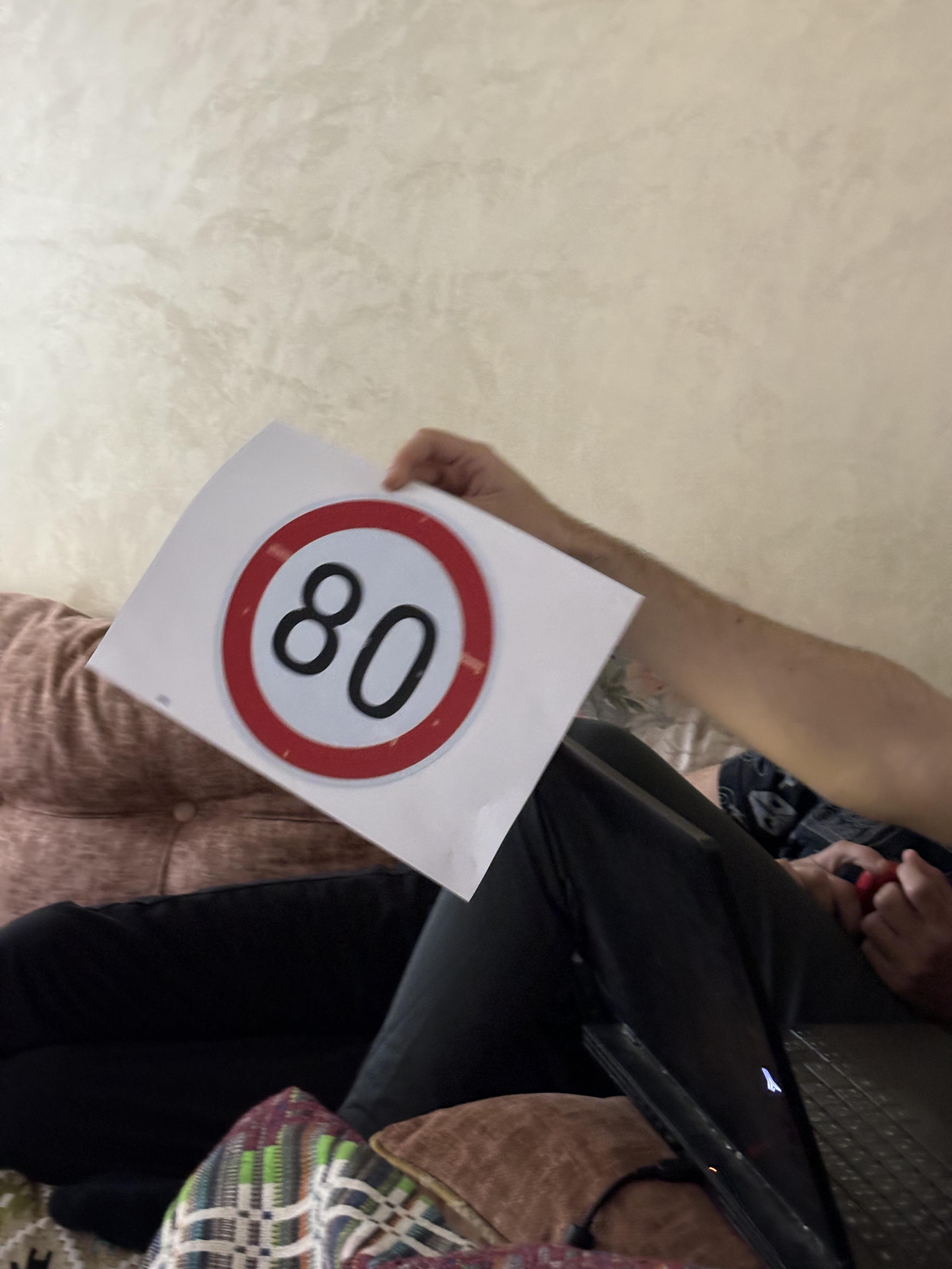80-Speed: (208, 482, 500, 790)
